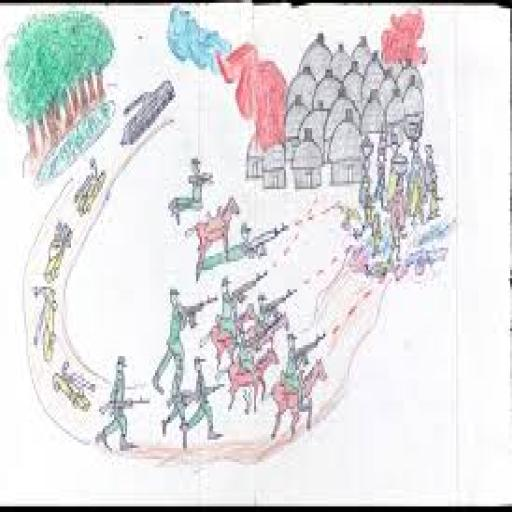person: (145, 273, 198, 404), (93, 345, 144, 469), (271, 327, 319, 422), (210, 264, 266, 344), (185, 350, 223, 461), (159, 354, 190, 444), (426, 126, 448, 213), (391, 128, 411, 210), (384, 197, 408, 261), (374, 128, 390, 214), (355, 134, 375, 196), (414, 127, 421, 192)
